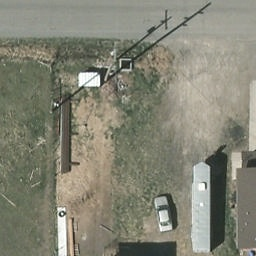camping car: (191, 161, 211, 254)
car: (153, 197, 176, 232)
